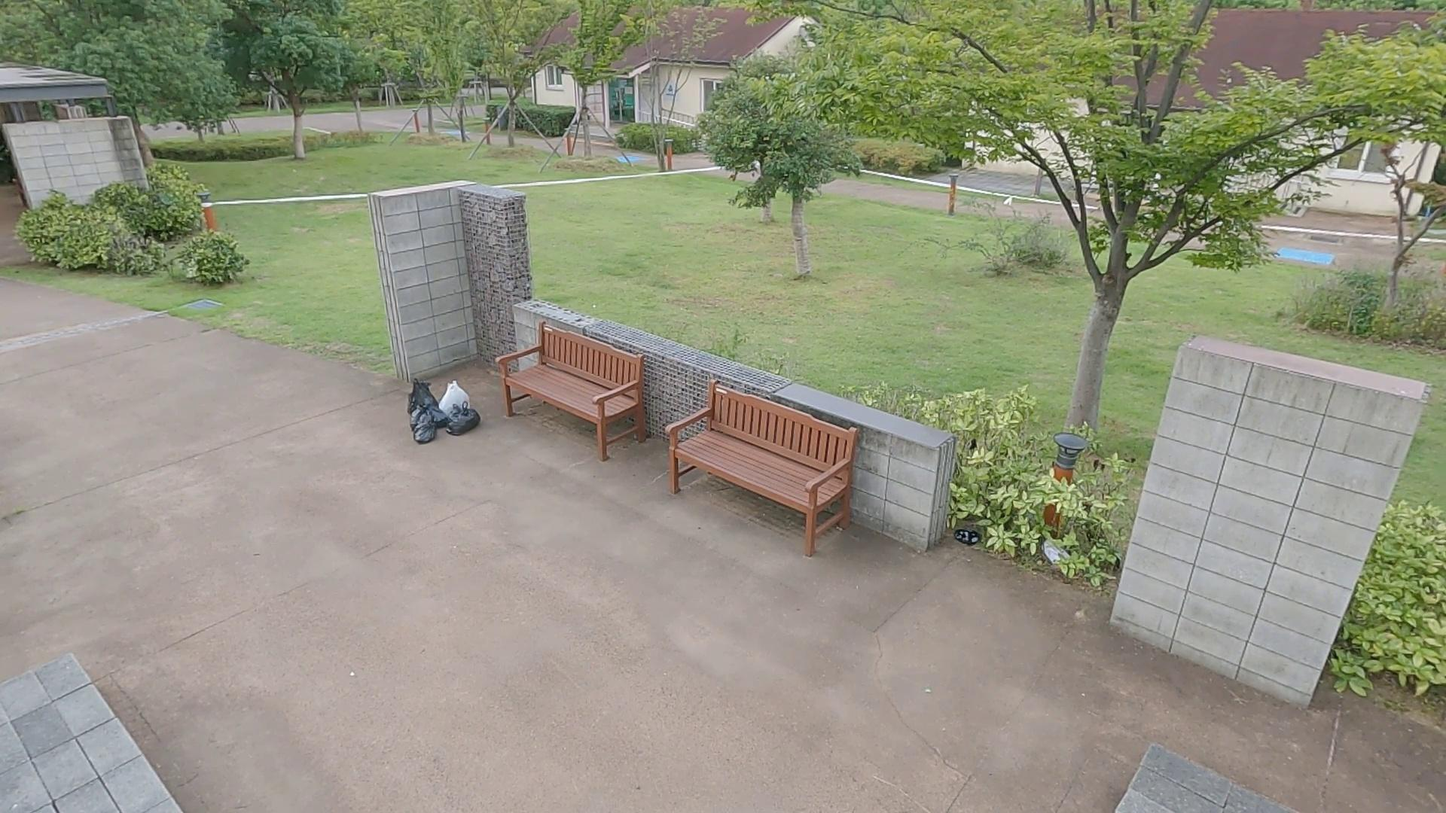trash: (406, 398, 449, 436), (406, 378, 445, 416), (440, 379, 471, 424), (448, 401, 480, 436), (1044, 536, 1071, 569), (412, 413, 438, 443), (953, 526, 985, 547)
